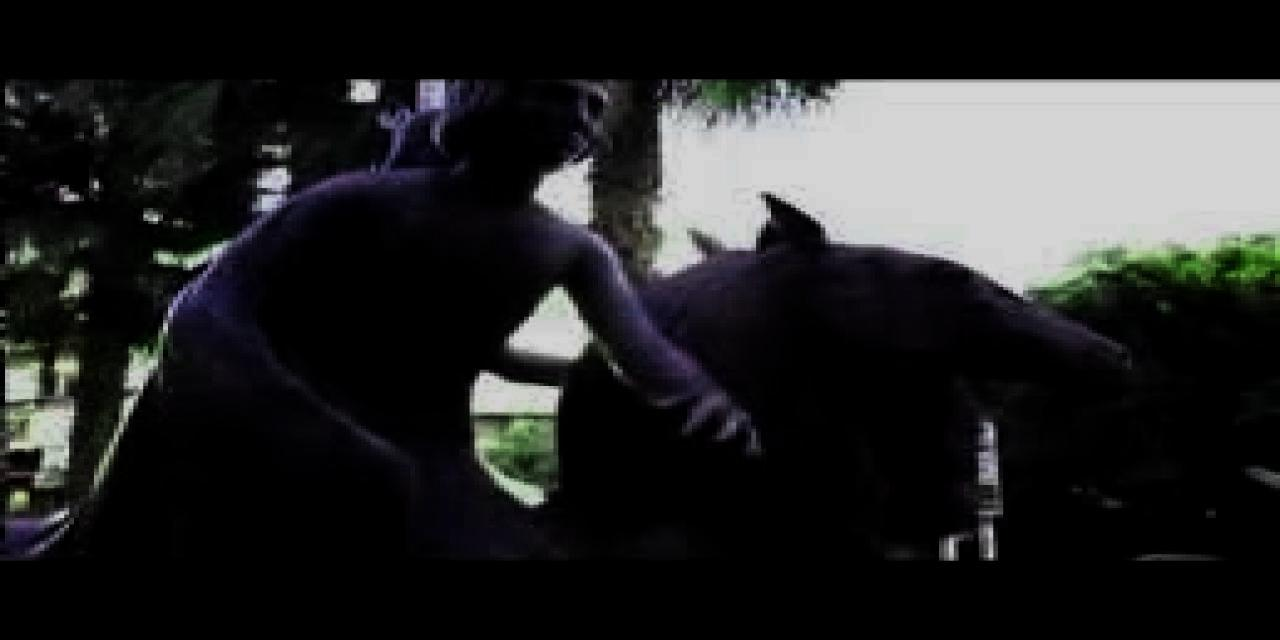Aretousa: (1, 78, 1138, 560)
